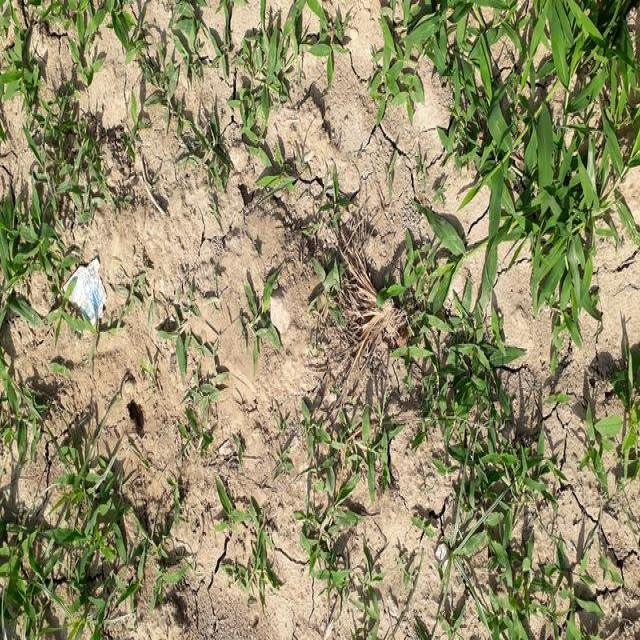weed: (375, 5, 640, 330), (419, 346, 559, 640), (3, 440, 147, 640), (0, 164, 86, 354)
